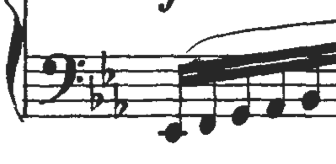bass_clef: (36, 41, 89, 115)
flat: (110, 78, 134, 124), (96, 45, 119, 91), (83, 74, 106, 114)
